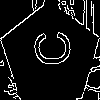C: (25, 30, 71, 67)
